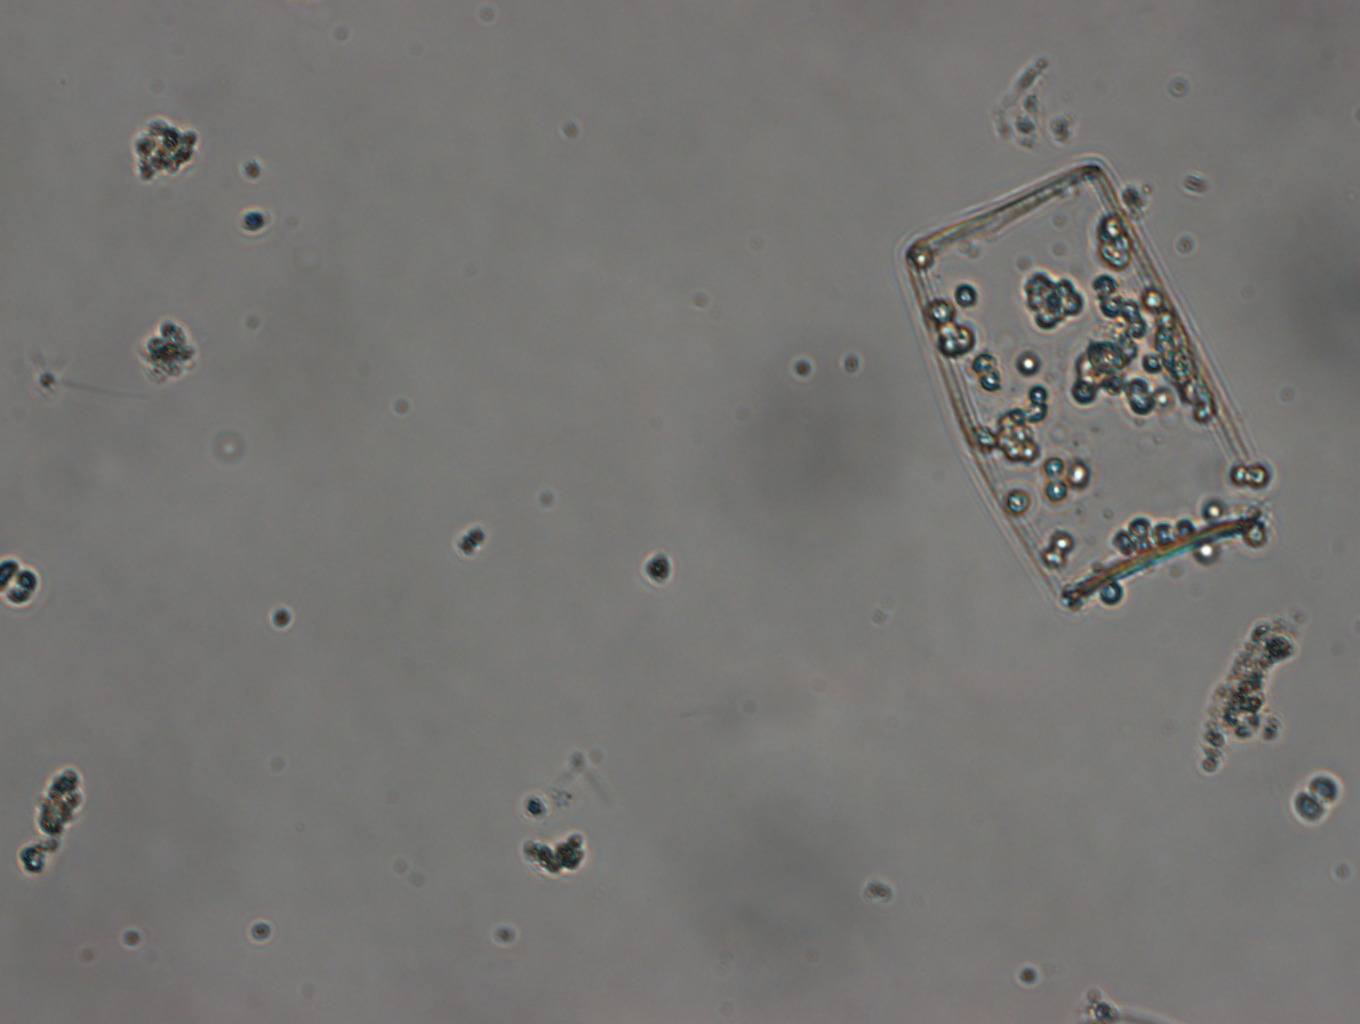guinardia flaccida: (903, 147, 1277, 608)
